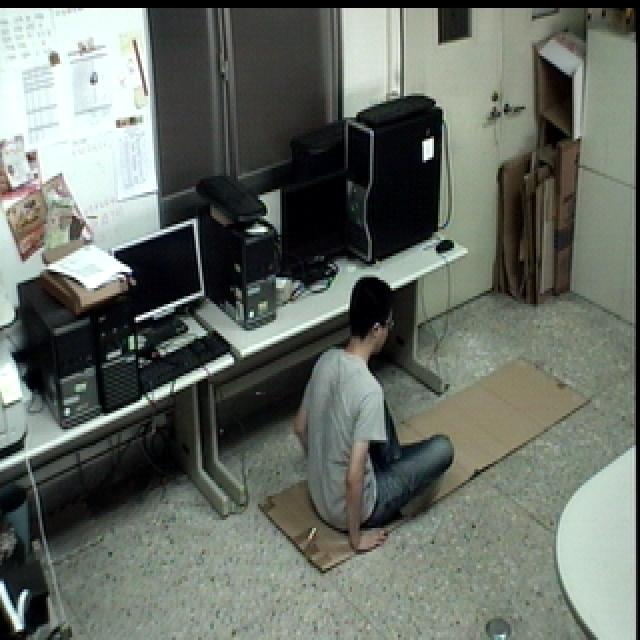sit: (286, 268, 466, 558)
